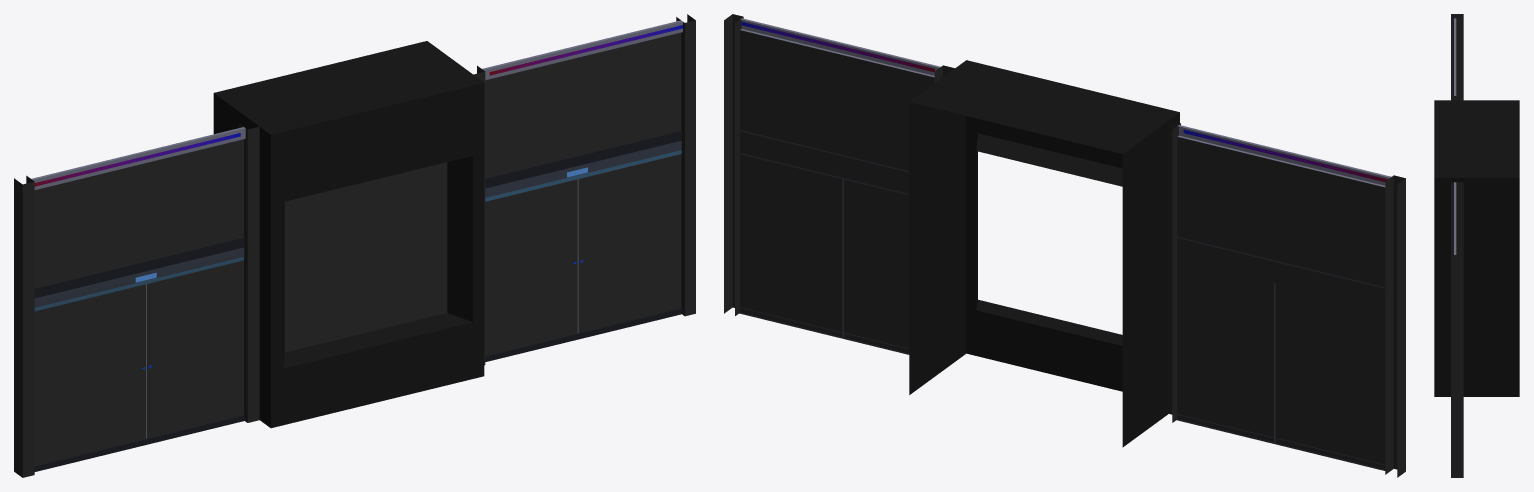
File: Wall_Door_12x5x2_001_L1.fbx
3 renders of one model, left to right at view 1: azimuth 30°, elevation 25°; view 2: azimuth 150°, elevation 25°; view 3: azimuth 270°, elevation 25°, orthographic. The views are drawn at different scales.
Visible parts, largest first — view 1: Wall_Door_12x5x2_001_L1; view 2: Wall_Door_12x5x2_001_L1; view 3: Wall_Door_12x5x2_001_L1.
Part boxes in pixels (x1,y1,x2,y2): Wall_Door_12x5x2_001_L1: (14,14,695,477); Wall_Door_12x5x2_001_L1: (724,14,1405,477); Wall_Door_12x5x2_001_L1: (1434,14,1519,477).
Bounding box in the file's own units: 12 × 5 × 1.77.
